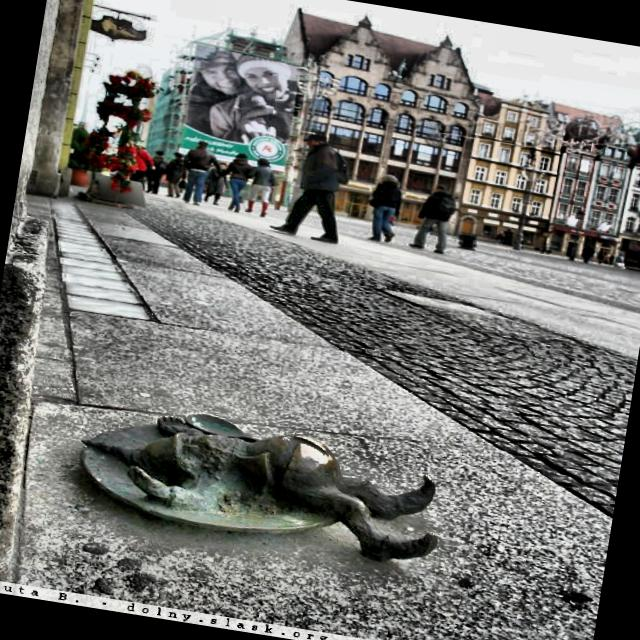Obiezysmak: (79, 414, 437, 564)
